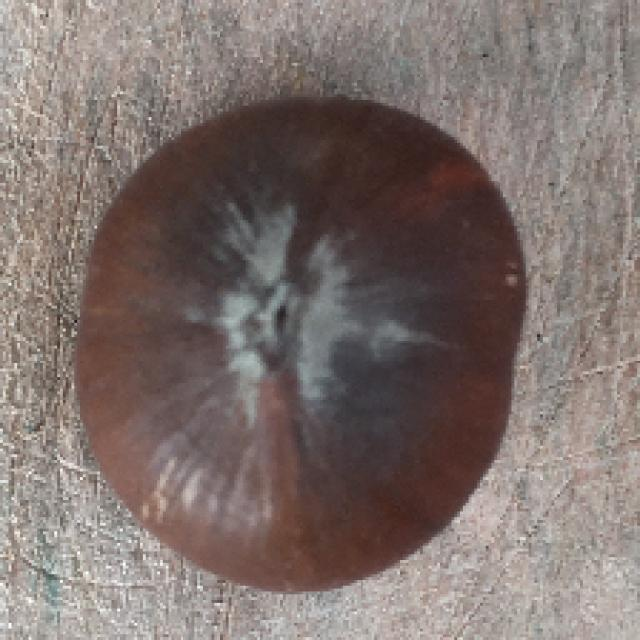DamagedHazelnut: (74, 95, 534, 591)
